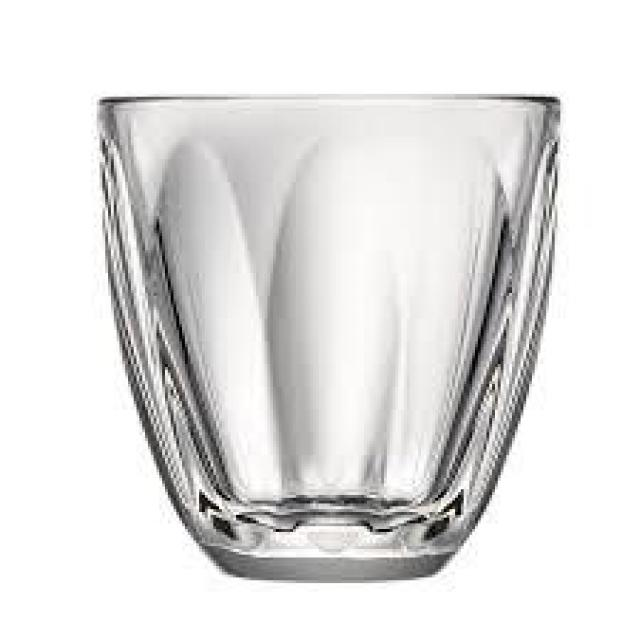non-organic waste: (82, 87, 574, 590)
